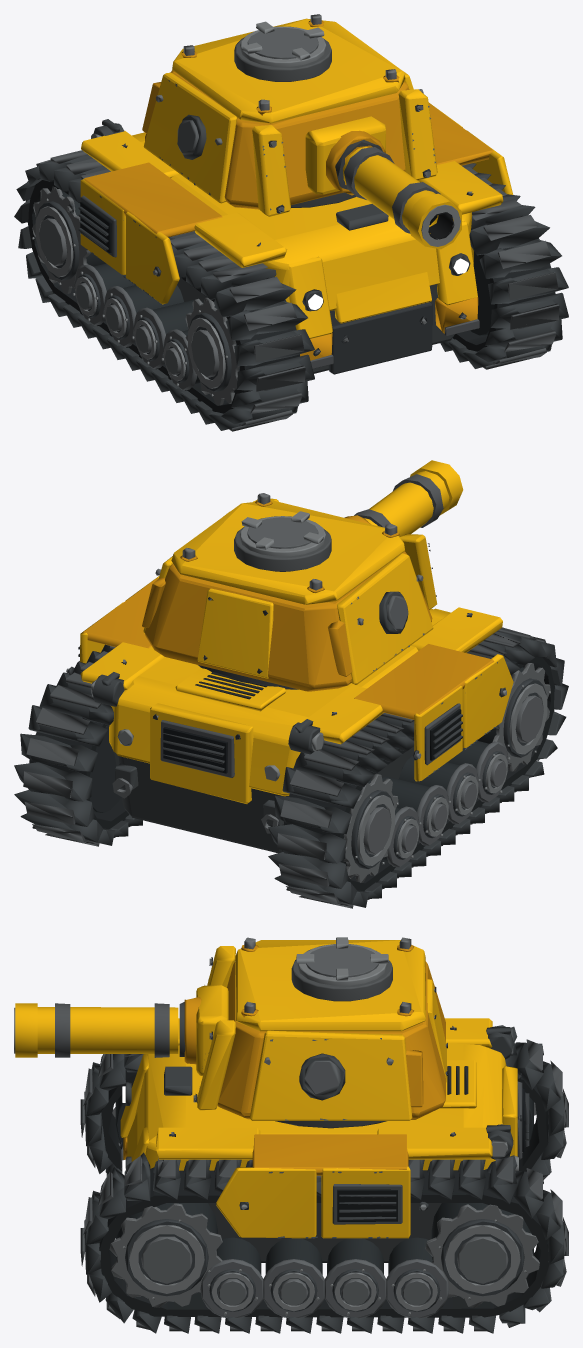
File: tank.glb
3 renders of one model, top to bottom at view 1: azimuth 30°, elevation 25°; view 2: azimuth 150°, elevation 25°; view 3: azimuth 270°, elevation 25°, orthographic. The views are drawn at different scales.
Visible parts, largest first — view 1: Hull, Turret, TrackLeft, TrackRight, Barrel, Hatch, WheelLeft6, WheelLeft1, WheelLeft3, WheelLeft4, WheelLeft5, WheelLeft2 (+1 smaller); view 2: Hull, Turret, TrackLeft, TrackRight, Hatch, Barrel, WheelLeft6, WheelLeft1, WheelLeft3, WheelLeft4, WheelLeft2, WheelRight6 (+1 smaller); view 3: Hull, Turret, TrackRight, WheelRight1, WheelRight6, Barrel, TrackLeft, Hatch, WheelRight4, WheelRight3, WheelRight2, WheelRight5.
Part boxes in pixels (x1,y1,x2,y2): Hull: (27,102,555,413); Turret: (142,14,437,216); TrackLeft: (14,150,314,431); TrackRight: (440,163,568,369); Barrel: (343,147,461,249); Hatch: (234,21,331,81); WheelLeft6: (32,186,105,293); WheelLeft1: (184,297,239,405); WheelLeft3: (132,299,203,368); WheelLeft4: (102,285,183,347); WheelLeft5: (72,263,134,325); WheelLeft2: (161,329,200,390); Hull: (29,576,555,891); Turret: (142,493,437,691); TrackLeft: (268,627,568,908); TrackRight: (14,644,142,846); Hatch: (234,511,331,571); Barrel: (354,460,463,536); WheelLeft6: (343,774,398,882); WheelLeft1: (477,663,550,771); WheelLeft3: (399,756,480,824); WheelLeft4: (382,776,450,845); WheelLeft2: (447,741,510,802); WheelRight6: (89,725,121,813); Hull: (99,1018,549,1317); Turret: (179,937,447,1120); TrackRight: (80,1152,568,1333); WheelRight1: (109,1203,222,1307); WheelRight6: (425,1203,539,1307); Barrel: (14,1003,178,1057); TrackLeft: (80,1026,568,1179); Hatch: (291,937,392,1001); WheelRight4: (324,1238,386,1318); WheelRight3: (263,1238,324,1318); WheelRight2: (200,1237,263,1318); WheelRight5: (386,1237,449,1318).
Size of the model in its own units: 1 by 0.7705 by 1.3.
